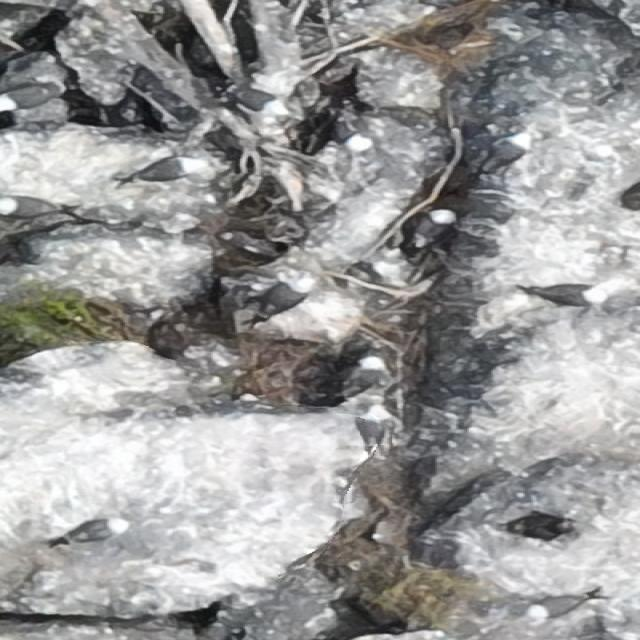umineko: (252, 276, 316, 324), (54, 516, 133, 544), (415, 207, 459, 254), (530, 283, 608, 308), (342, 355, 386, 399), (521, 596, 595, 621), (362, 406, 396, 460), (496, 130, 539, 170), (4, 82, 68, 108), (4, 194, 70, 218), (337, 112, 371, 150), (226, 90, 280, 110), (141, 160, 188, 180), (516, 517, 564, 535)
